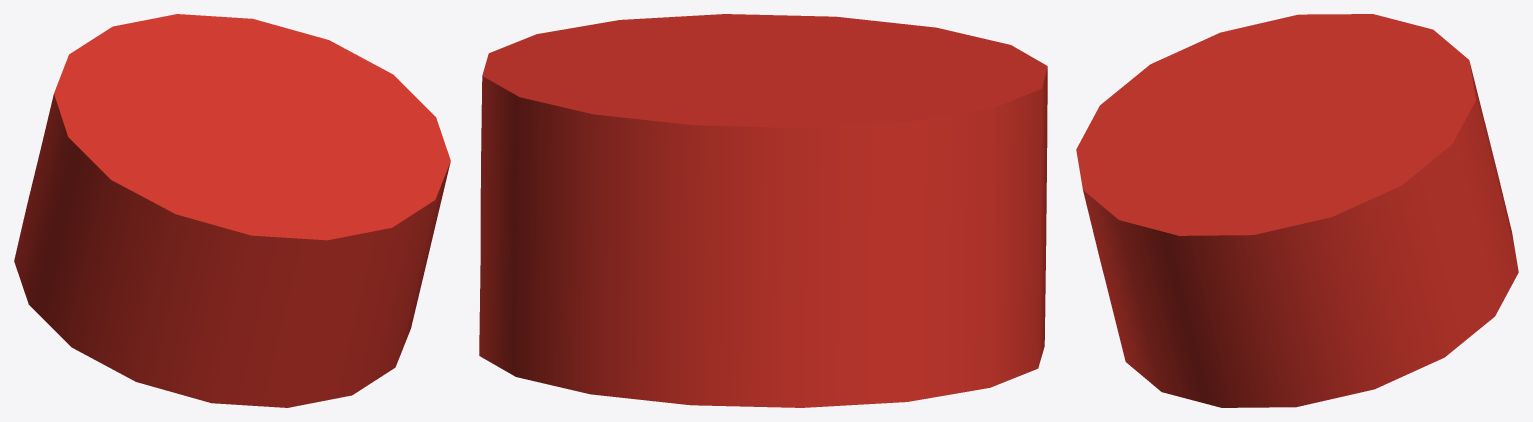
File: button1.obj
3 views of the same model, side by side, from view 1: azimuth 30°, elevation 25°; view 2: azimuth 150°, elevation 25°; view 3: azimuth 270°, elevation 25° (orthographic). The views are drawn at different scales.
Visible parts, largest first — view 1: button1; view 2: button1; view 3: button1.
Boxes of the visible parts, x1,y1,x2,y2 form: button1: [14, 14, 450, 407]; button1: [479, 14, 1047, 407]; button1: [1076, 14, 1518, 407].
Bounding box in the file's own units: 0.0831 × 0.0572 × 0.086.
1 material, 1 textured.
